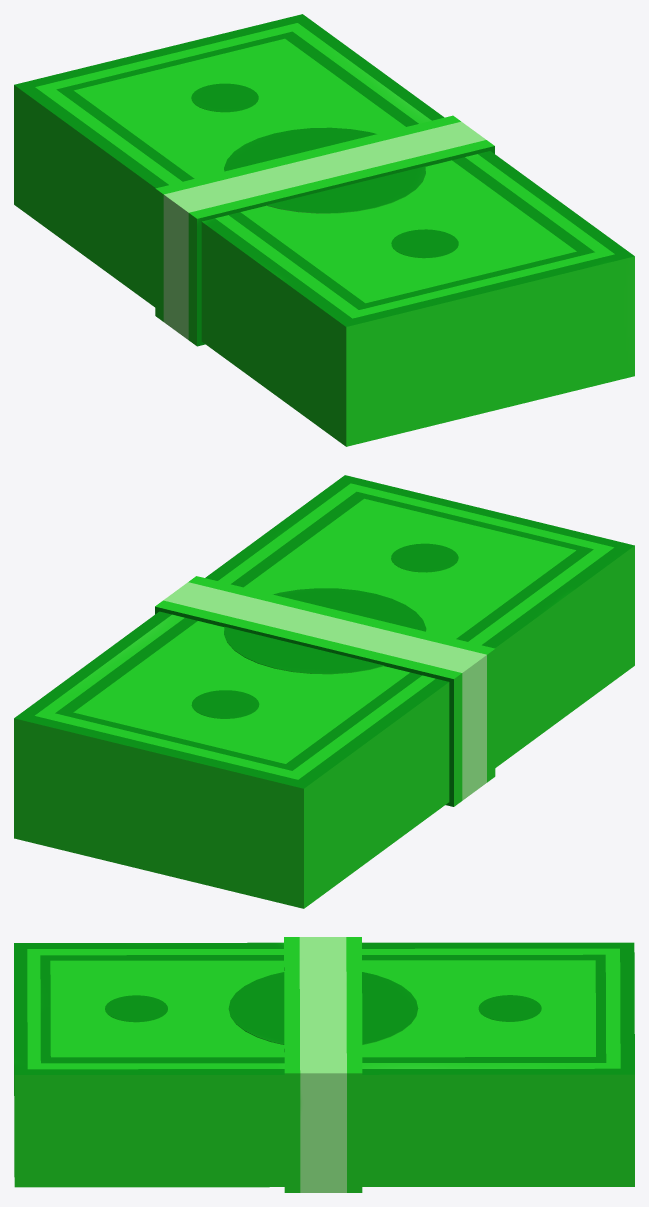
Rendered from Kichta.fbx.
3 views of the same model, one above another, from view 1: azimuth 30°, elevation 25°; view 2: azimuth 150°, elevation 25°; view 3: azimuth 270°, elevation 25° (orthographic). The views are drawn at different scales.
Parts seen in each view (by area): view 1: Money; view 2: Money; view 3: Money.
Part boxes in pixels (left/top/right/bottom): Money: left=14, top=14, right=634, bottom=446; Money: left=14, top=475, right=634, bottom=908; Money: left=14, top=937, right=634, bottom=1192.
Size of the model in its own units: 0.1051 by 0.043 by 0.2024.
